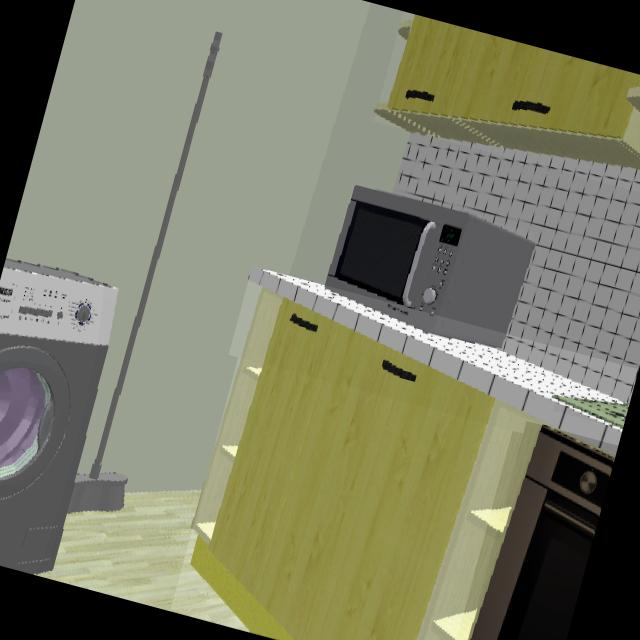cabinet: (190, 300, 498, 640), (376, 14, 640, 169)
countertop: (248, 268, 622, 457)
microwave: (330, 186, 531, 350)
oven: (470, 426, 613, 640)
stove: (556, 398, 628, 429)
